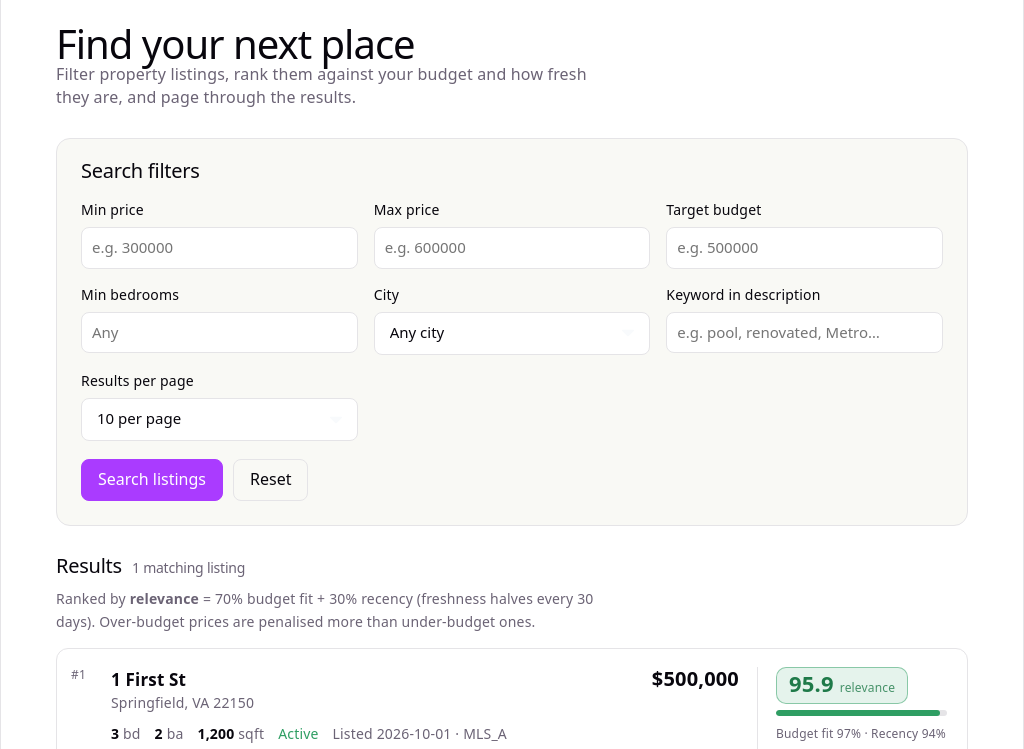
Test: App — form validation › surfaces server-side 422s as field errors, not the generic error card
Check: the text "1 First St" is shown, box [111, 668, 186, 691]
Type "trigger" into the search field labelled "Keyword in description".
click(805, 332); type("trigger")  # box [666, 312, 943, 353]
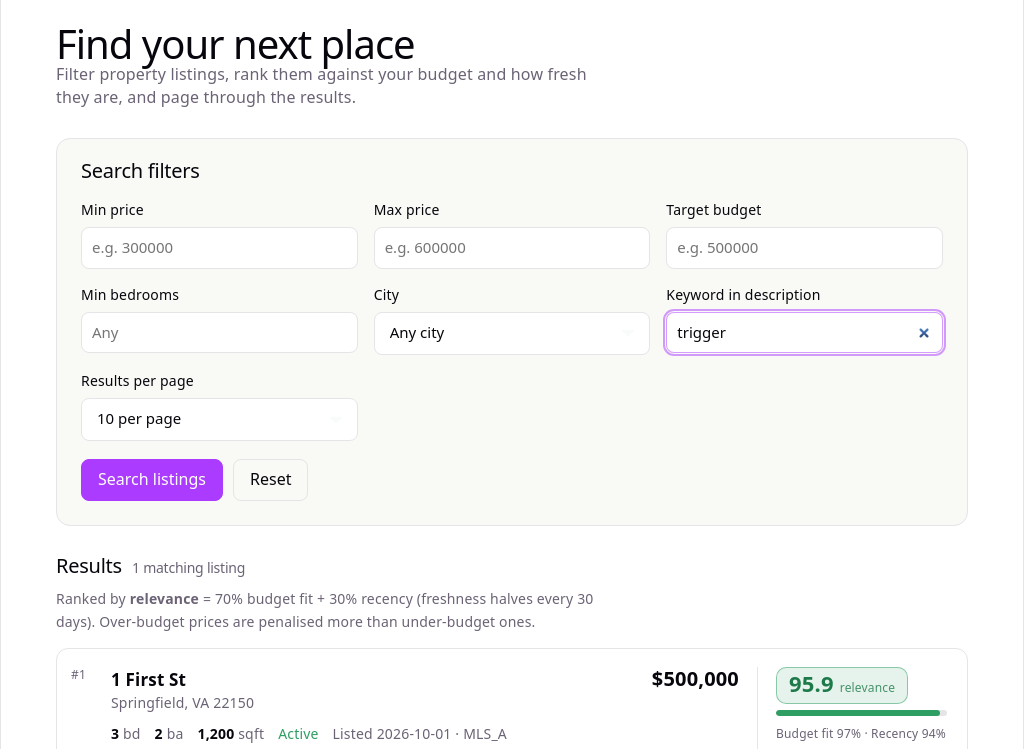
Click the button "Search listings".
click(152, 480)  # box [81, 459, 223, 501]
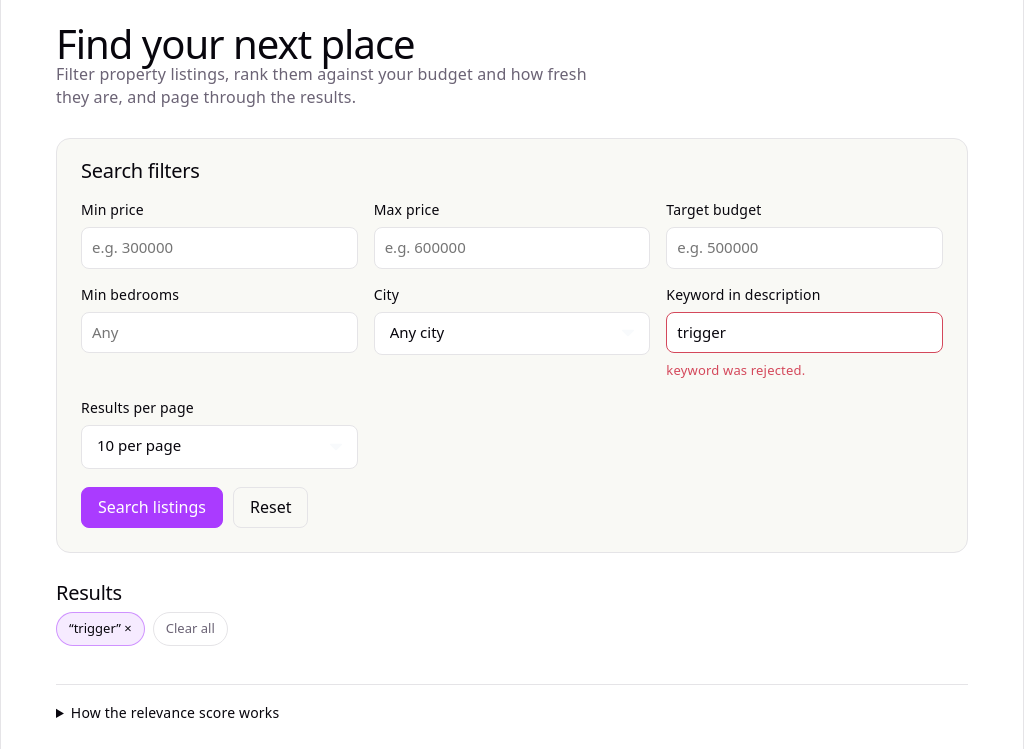
Check: the text "keyword was rejected." is shown, box [666, 361, 805, 379]
